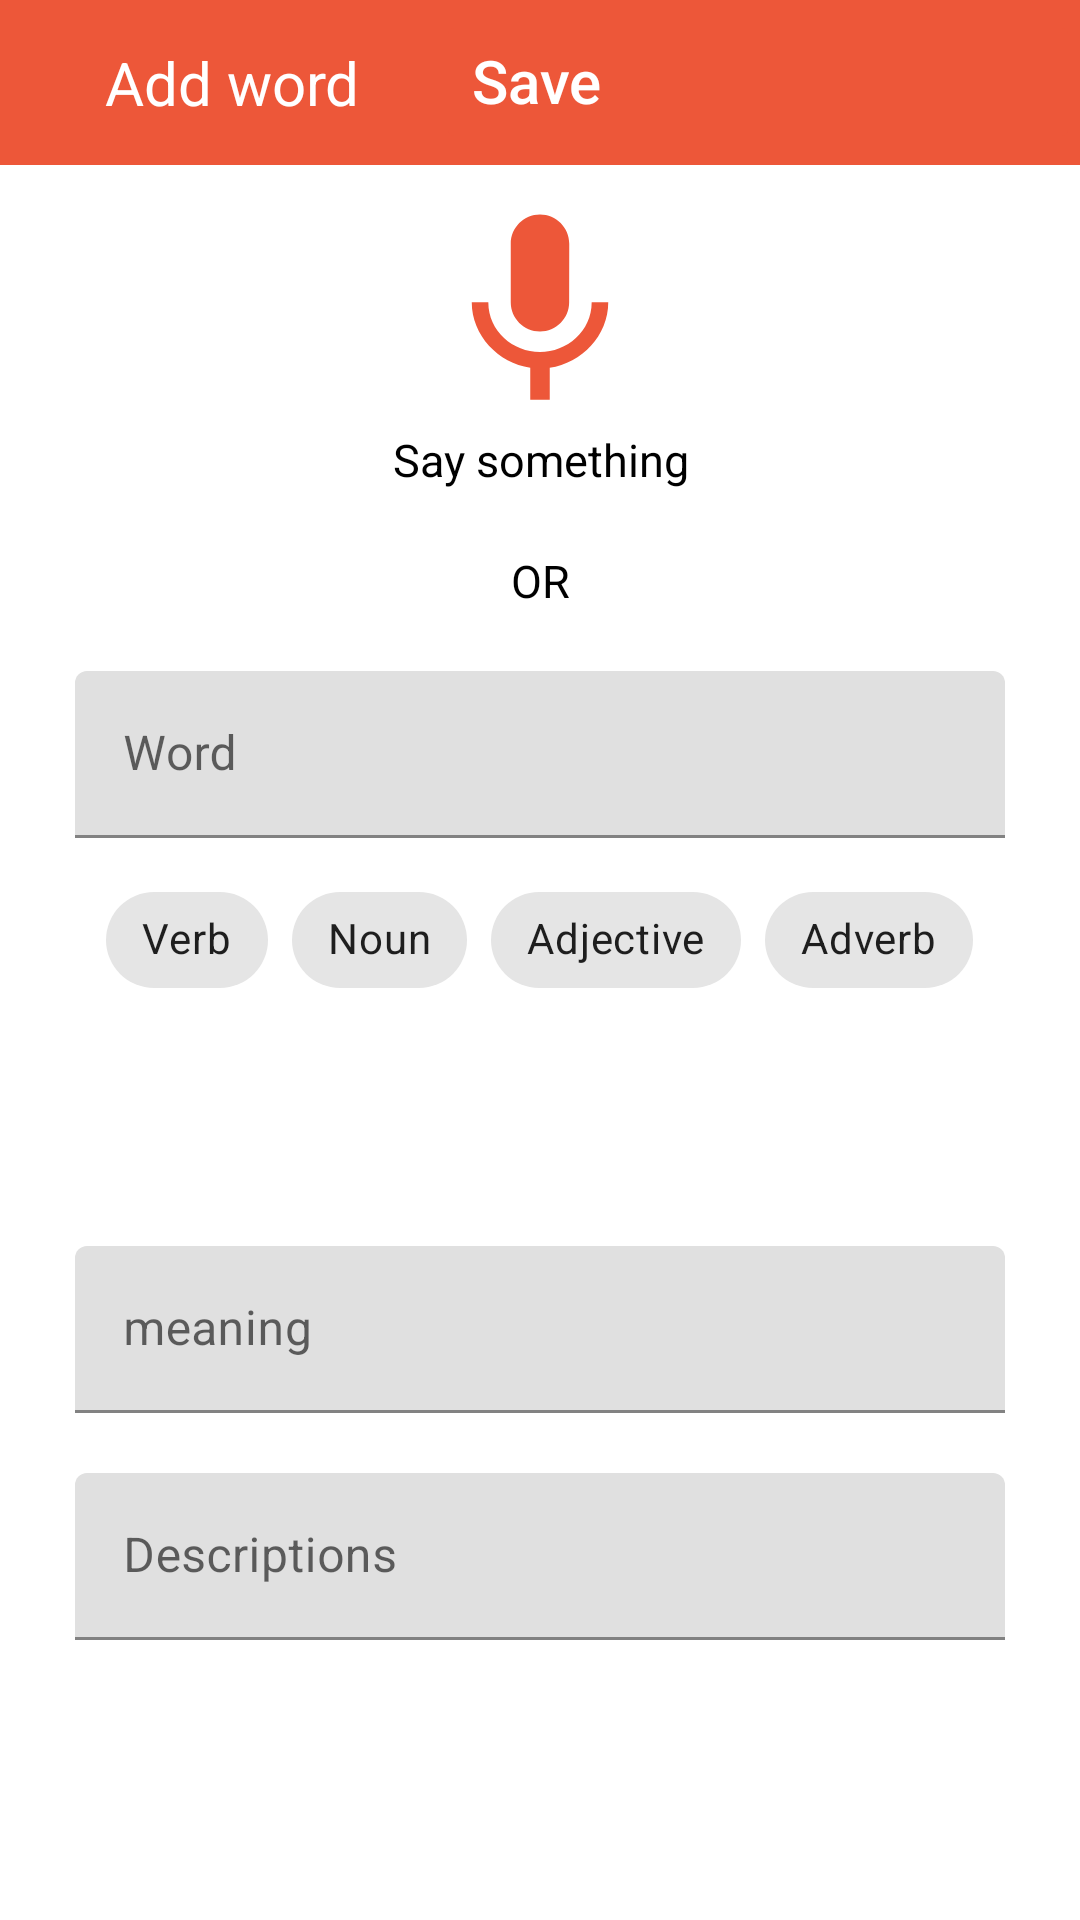

Named icons in this screenshot (1080x1920) and their bounding boxes, (x1,y1,x2,y2):
mic: (471,214,609,400)
